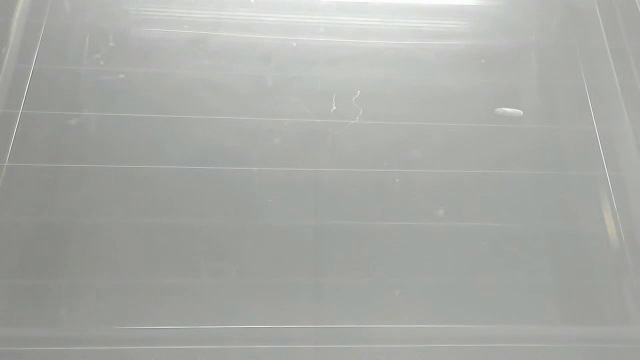alpha: (490, 102, 526, 122)
